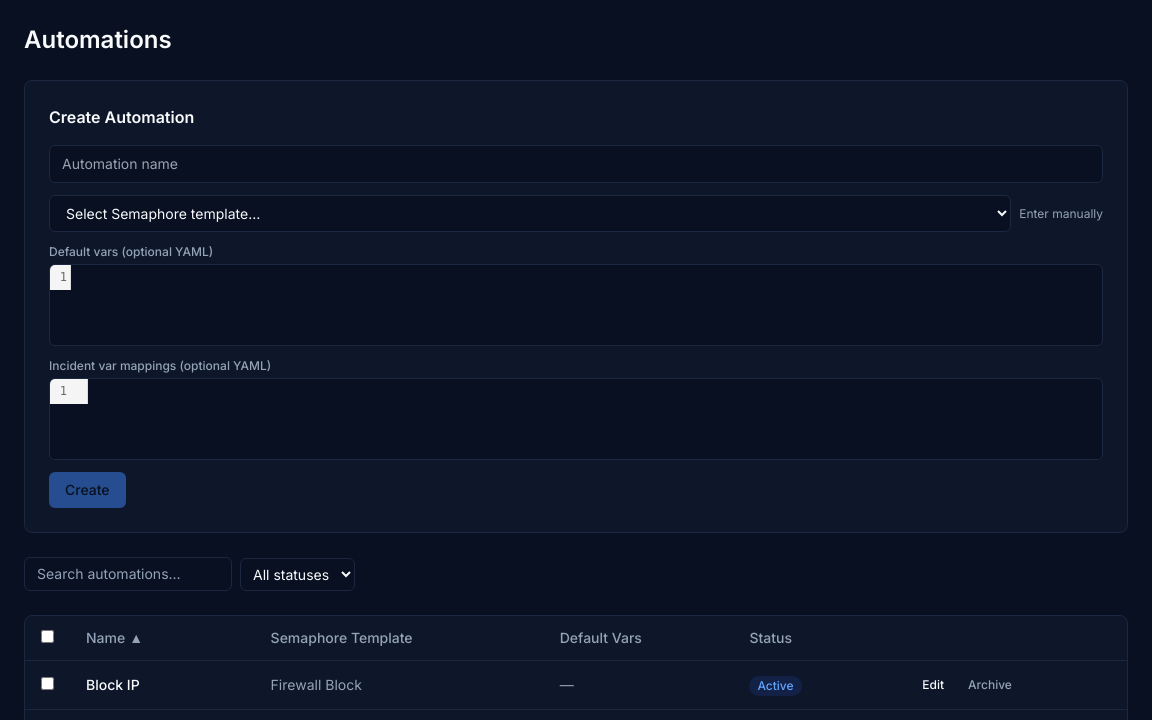
it: AutomationsAdmin › filters by search query (name or template)
Expected: the text "Block IP" is shown, [70,660,255,710]
In the search field labelled "Search automations": (128, 574) [24,557,232,591], type "isolate"
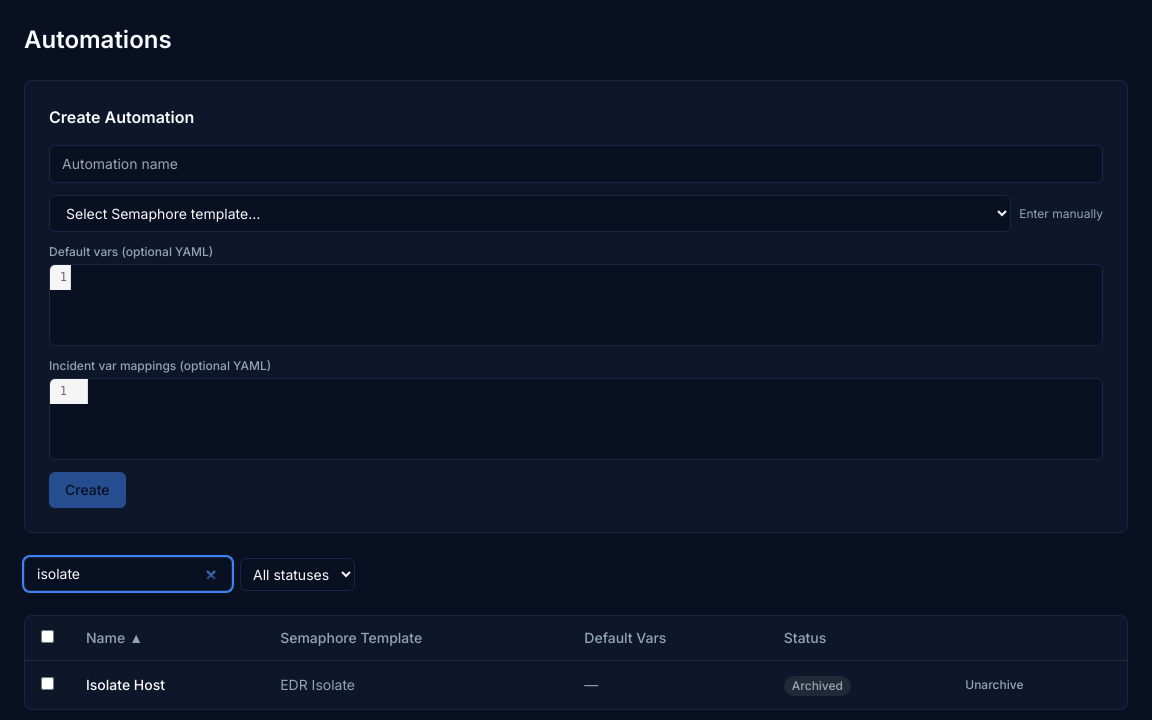
Expected: the text "Isolate Host" is shown, [70,660,264,709]
Result: the text "Block IP" is gone
